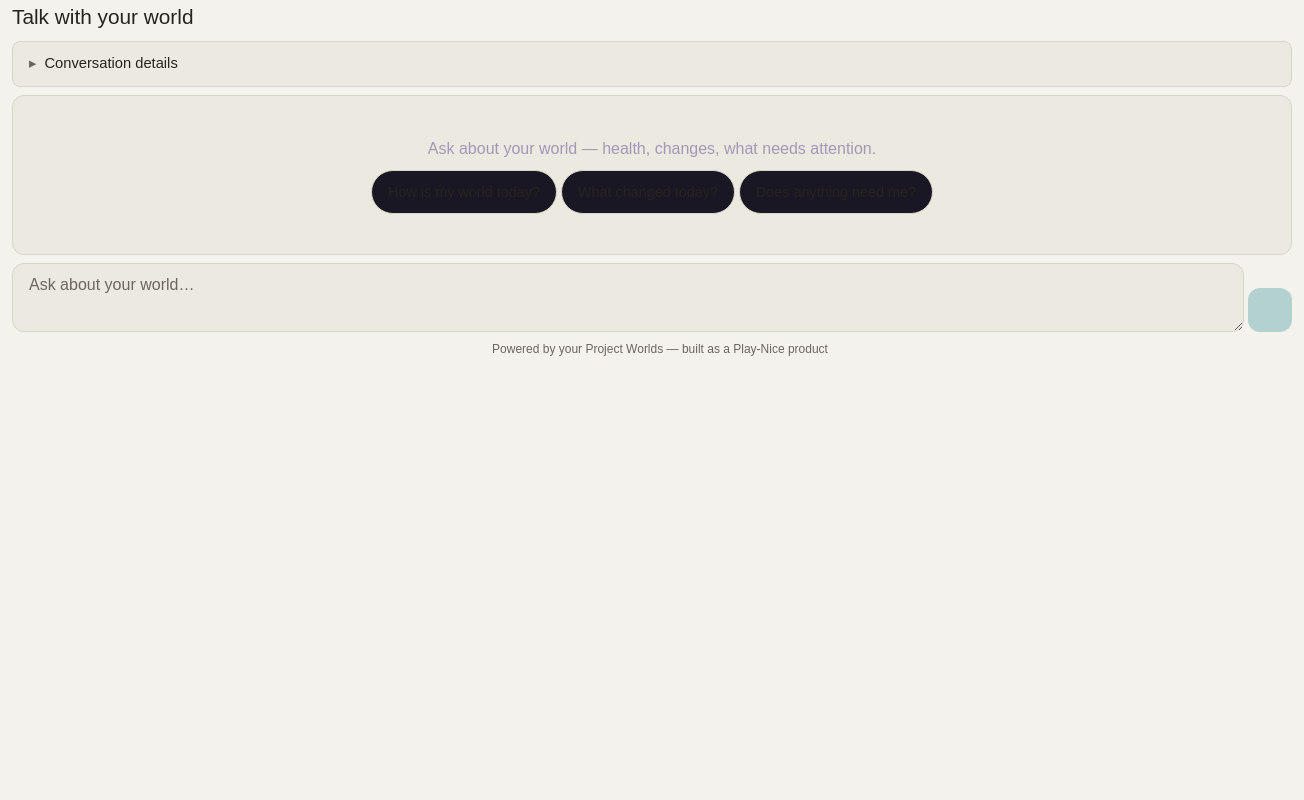
it: ChatPanel assistant-drafted correction suggestions (suggestion is not authorization) › renders the suggestion with label, draft fields, and boundary text
In the text box named "Message": (628, 298) [12, 263, 1244, 332], type "check my journal"
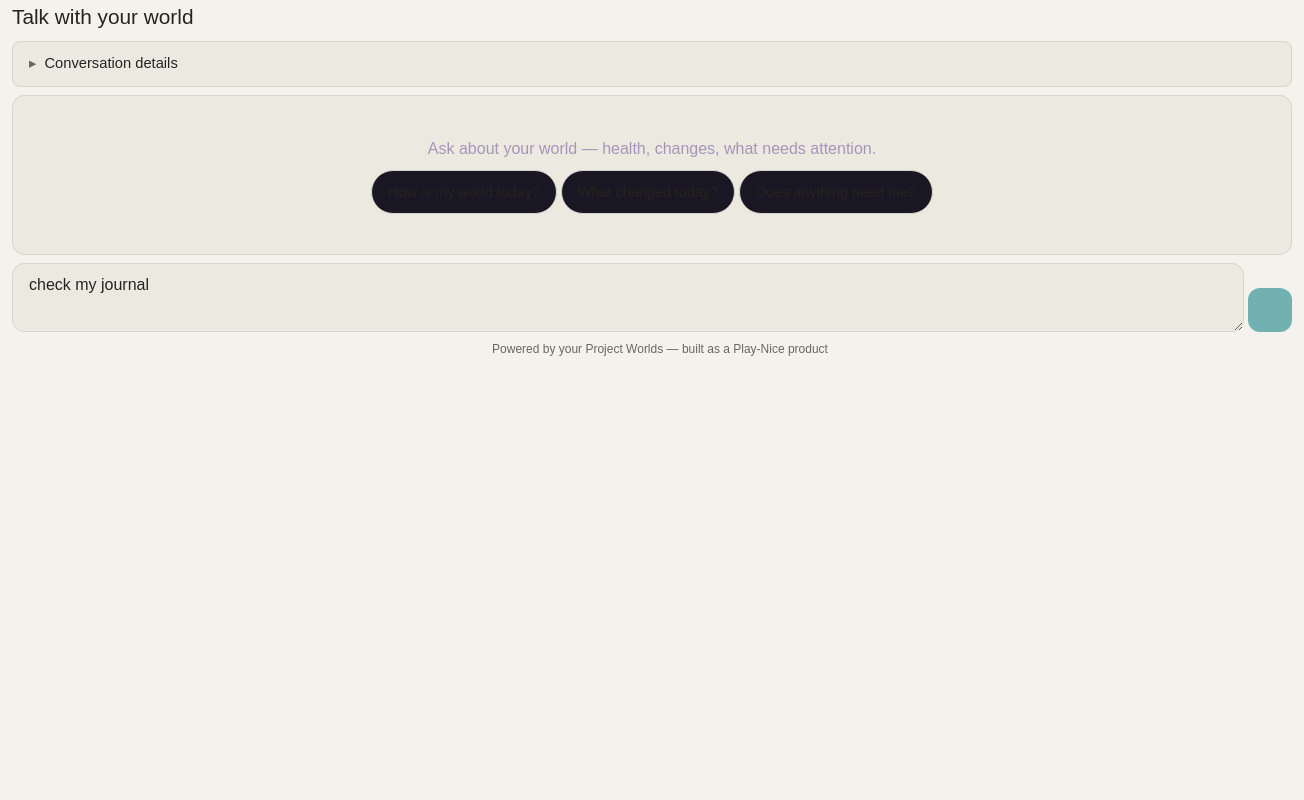
Submit the form named "Message", box [12, 263, 1292, 332]
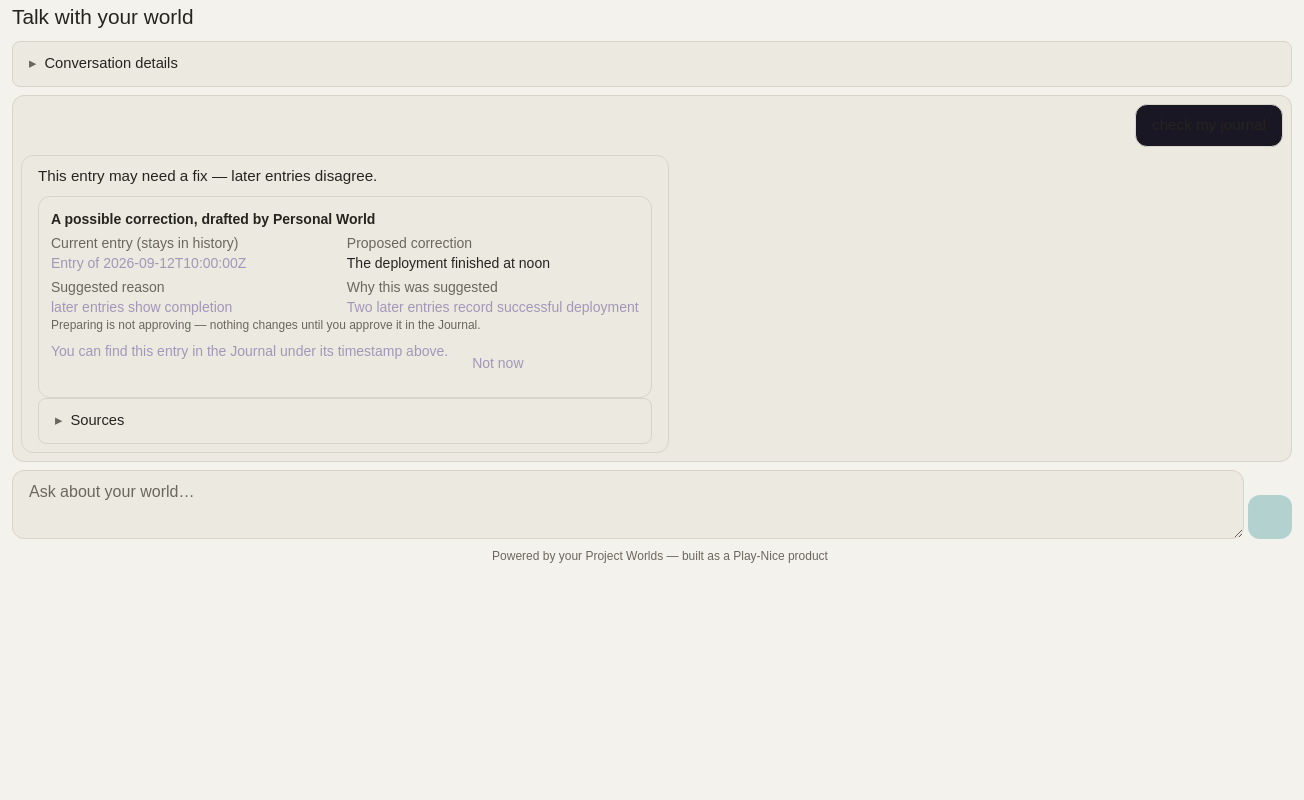
Result: the text "This entry may need a fix — later entries disagree." is shown at [38, 167, 377, 184]
Result: the text "The deployment finished at noon" is shown at [347, 255, 550, 271]
Result: the text "Two later entries record successful deployment" is shown at [347, 297, 639, 317]
